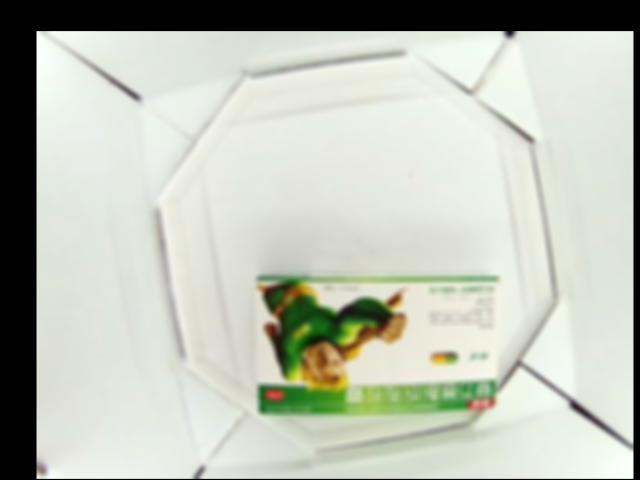Medicine: (254, 274, 497, 413)
